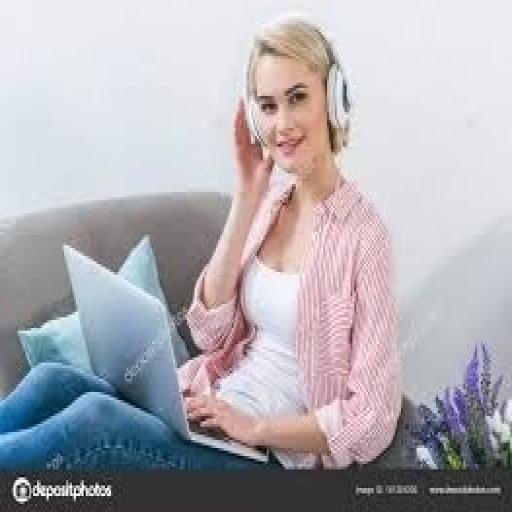listening_to_music: (0, 13, 405, 472)
